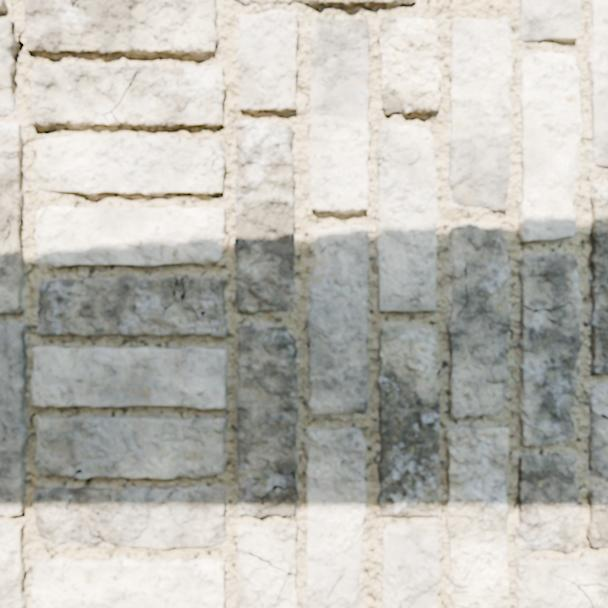brick: (518, 255, 582, 446), (447, 223, 510, 417), (29, 64, 224, 126), (449, 18, 511, 211), (33, 486, 226, 548), (31, 347, 226, 408), (519, 52, 581, 241), (37, 275, 226, 337), (377, 121, 438, 311), (378, 327, 439, 515), (235, 123, 295, 314), (237, 326, 297, 517), (309, 18, 368, 212), (308, 225, 368, 414), (36, 418, 224, 478), (33, 136, 224, 195), (446, 426, 508, 607), (36, 207, 225, 266), (306, 428, 366, 607), (25, 0, 218, 55), (31, 558, 225, 607), (378, 15, 440, 115), (518, 453, 580, 552), (237, 11, 297, 111), (0, 323, 28, 515), (237, 524, 295, 607), (383, 525, 440, 607), (0, 123, 24, 313), (515, 558, 607, 607), (589, 183, 607, 374), (587, 0, 607, 167), (519, 0, 580, 41), (0, 520, 26, 607), (588, 385, 607, 477), (0, 20, 16, 115), (238, 0, 415, 7), (587, 488, 607, 547), (277, 576, 297, 607), (582, 587, 607, 607), (236, 120, 248, 126), (0, 0, 6, 11)
crack: (91, 67, 141, 123), (247, 552, 295, 607), (46, 498, 105, 541), (548, 572, 607, 607), (162, 276, 207, 321), (235, 145, 270, 175), (252, 484, 296, 506), (259, 457, 295, 479), (199, 144, 224, 175), (376, 127, 390, 173), (57, 41, 107, 53), (0, 213, 13, 256), (16, 28, 25, 52), (235, 121, 254, 130), (13, 76, 18, 105), (73, 468, 82, 476), (326, 18, 333, 27), (600, 413, 607, 420)
